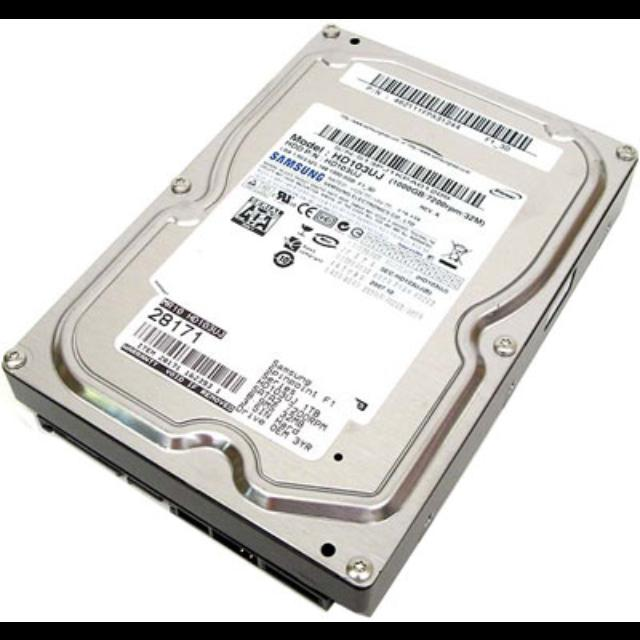HDD: (2, 23, 640, 618)
